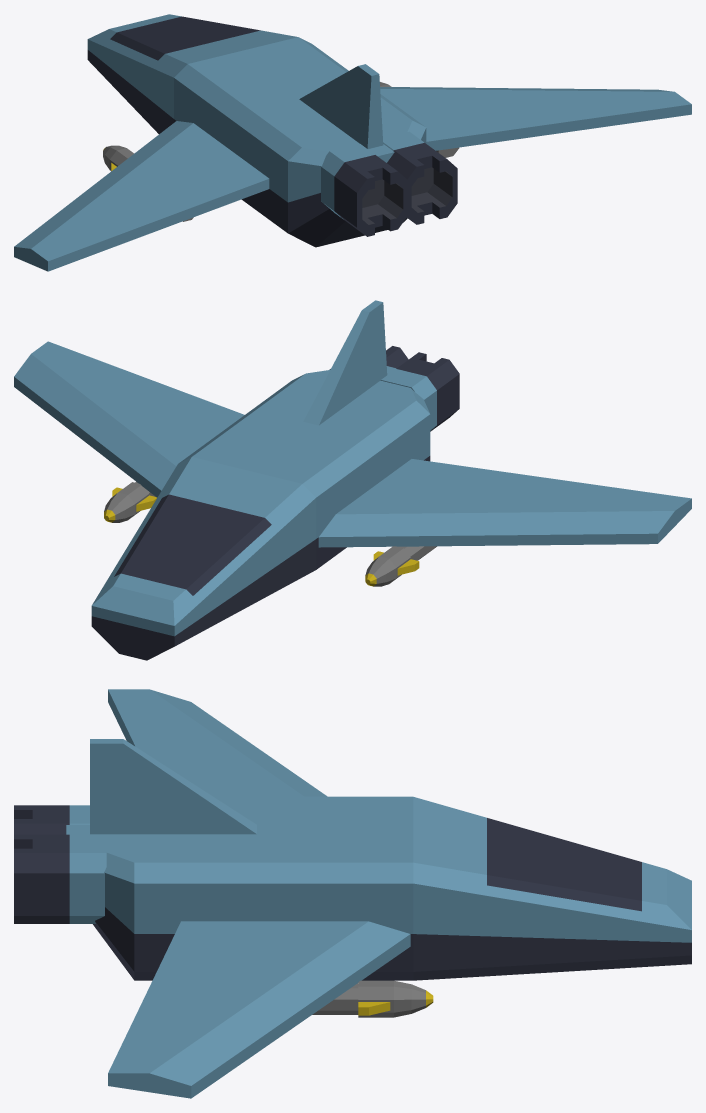
File: airplane.glb
3 renders of one model, top to bottom at view 1: azimuth 30°, elevation 25°; view 2: azimuth 150°, elevation 25°; view 3: azimuth 270°, elevation 25°, orthographic. The views are drawn at different scales.
Parts seen in each view (by area): view 1: mergedBlocks(Clone); view 2: mergedBlocks(Clone); view 3: mergedBlocks(Clone).
Part boxes in pixels (x1,y1,x2,y2): mergedBlocks(Clone): (14, 14, 691, 271); mergedBlocks(Clone): (14, 300, 691, 660); mergedBlocks(Clone): (14, 689, 691, 1098).
Bounding box in the file's own units: 3.26 × 0.85 × 2.43.
1 material, 1 textured.
